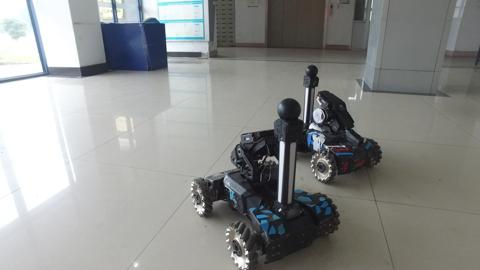chariot: (183, 93, 345, 270), (275, 60, 391, 187)
